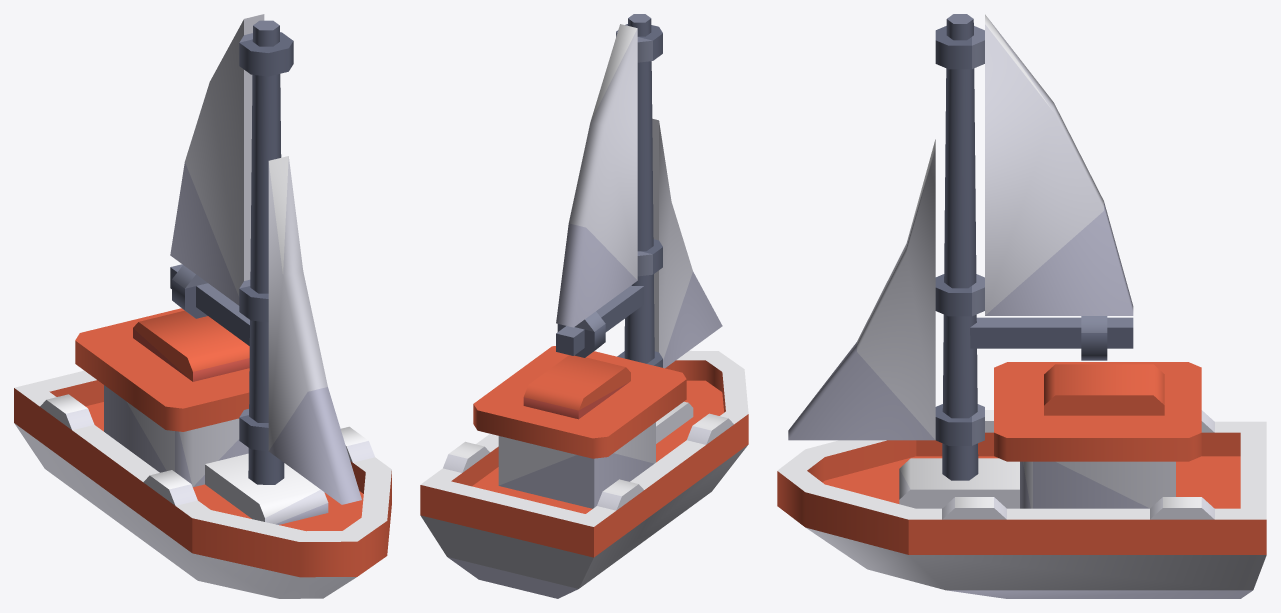
Rendered from veleiro.glb.
3 renders of one model, left to right at view 1: azimuth 30°, elevation 25°; view 2: azimuth 150°, elevation 25°; view 3: azimuth 270°, elevation 25°, orthographic. The views are drawn at different scales.
Visible parts, largest first — view 1: boat-sail-a, sail; view 2: boat-sail-a, sail; view 3: boat-sail-a, sail.
Boxes of the visible parts, box(x1,y1,x2,y2) form: boat-sail-a: box(14, 308, 391, 598); sail: box(170, 14, 361, 504); boat-sail-a: box(420, 346, 748, 598); sail: box(556, 14, 722, 368); boat-sail-a: box(777, 362, 1266, 598); sail: box(788, 14, 1133, 480).
Size of the model in its own units: 1.78 by 4.74 by 3.77.
